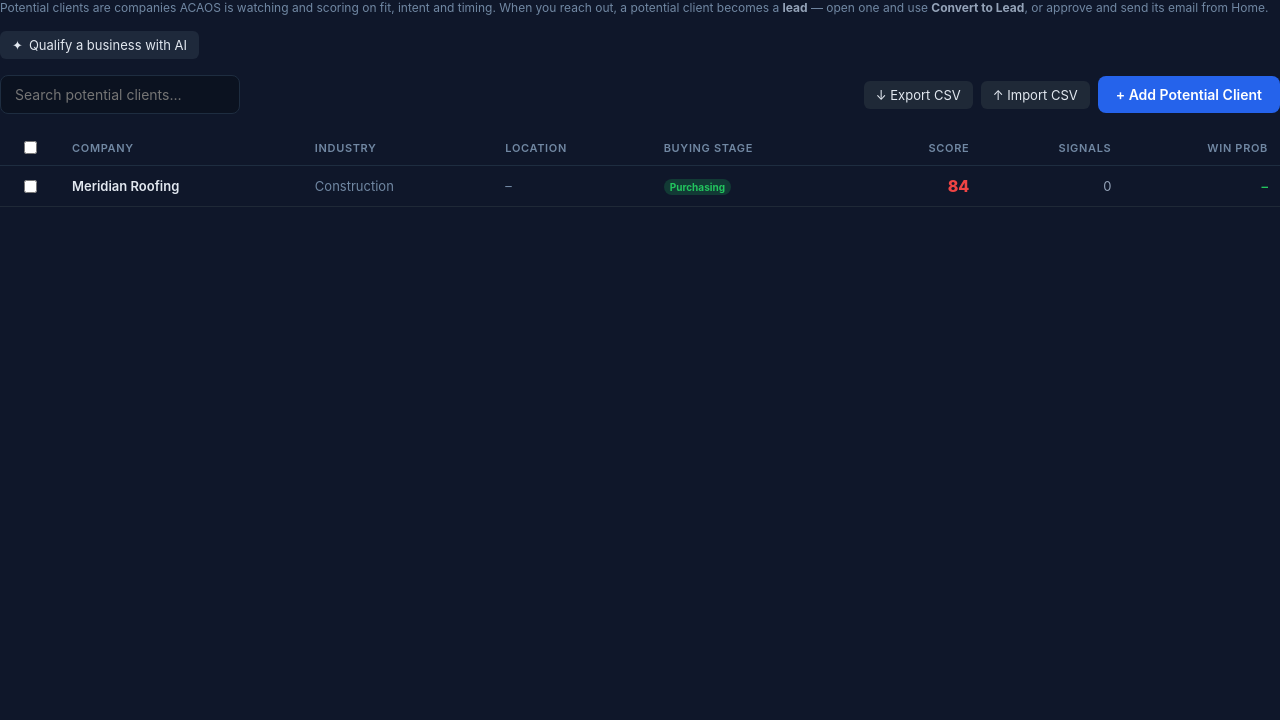
Test case: ProspectsView › opening a prospect shows the score explanation (Prospect brief) with real evidence
Click the text "Meridian Roofing": point(126, 186) [72,178,179,194]
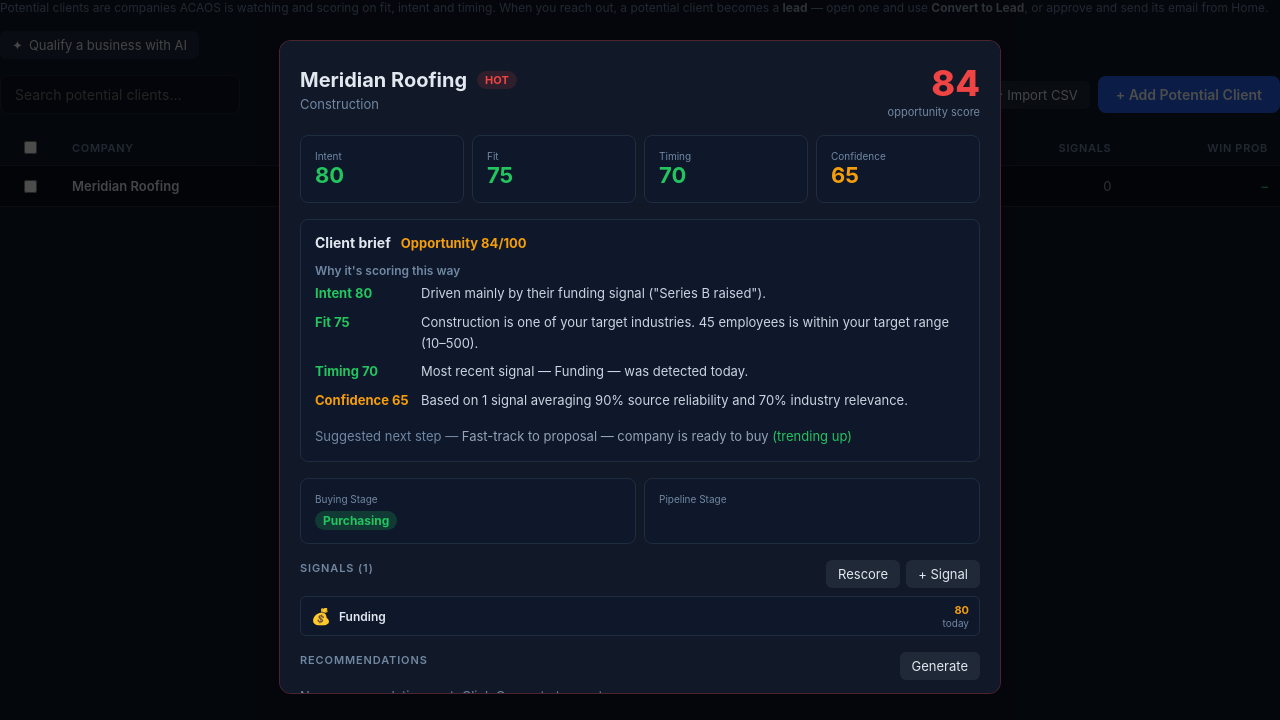
Result: the text "Client brief" is shown at [315,234,391,251]
Result: the text "Driven mainly by their funding signal (\"Series B raised\")." is shown at [421,283,766,304]
Result: the text "Construction is one of your target industries" is shown at [421,314,949,351]
